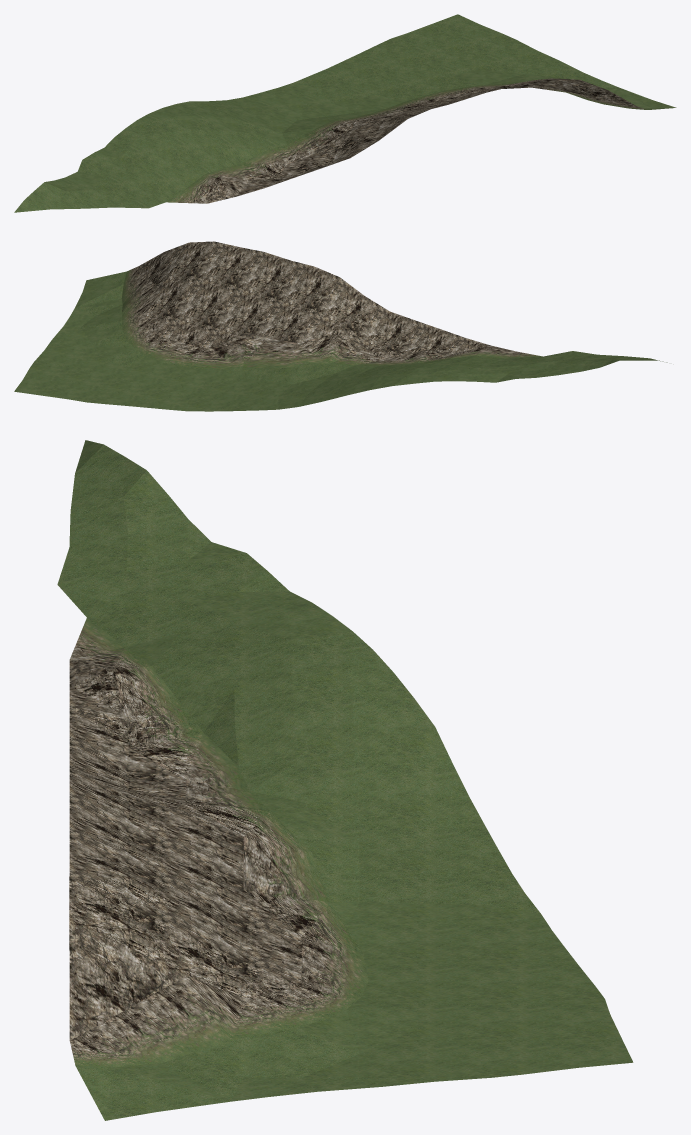
File: a_carisle_mid_landmass_00_00.fbx
The picture shows the model from 3 angles, top to bottom: view 1: azimuth 30°, elevation 25°; view 2: azimuth 150°, elevation 25°; view 3: azimuth 270°, elevation 25°; orthographic projection. The views are drawn at different scales.
Parts seen in each view (by area): view 1: a_carisle_mid_landmass_00_00; view 2: a_carisle_mid_landmass_00_00; view 3: a_carisle_mid_landmass_00_00.
Boxes of the visible parts, left/top/right/bottom form: a_carisle_mid_landmass_00_00: left=14, top=14, right=676, bottom=212; a_carisle_mid_landmass_00_00: left=14, top=241, right=667, bottom=411; a_carisle_mid_landmass_00_00: left=57, top=440, right=633, bottom=1120.
Size of the model in its own units: 53.33 by 22.71 by 5.5.
